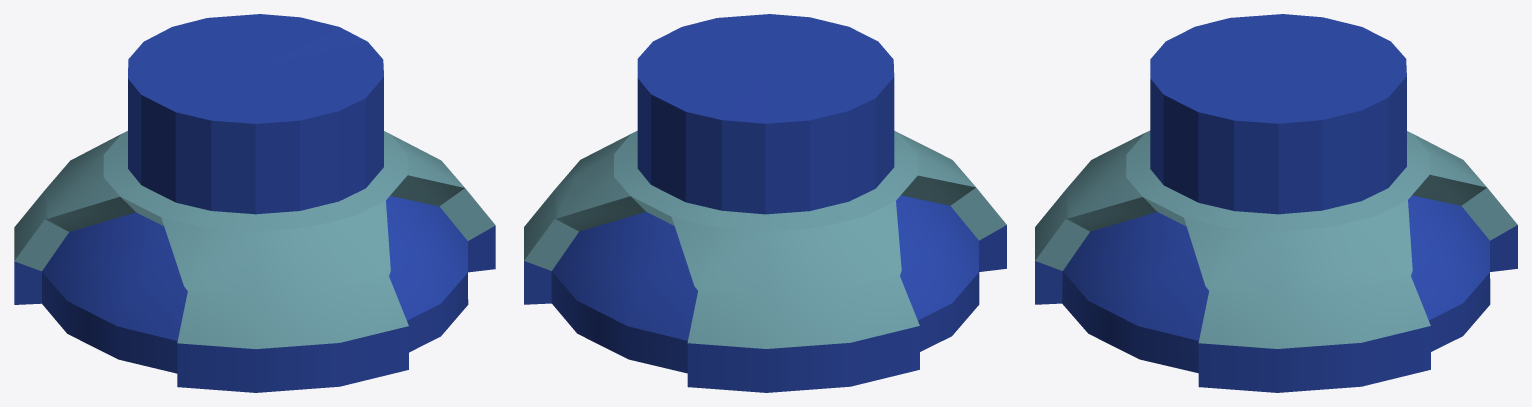
Rendered from 大招地雷3阿渤.FBX.
3 views of the same model, side by side, from view 1: azimuth 30°, elevation 25°; view 2: azimuth 150°, elevation 25°; view 3: azimuth 270°, elevation 25° (orthographic).
Parts seen in each view (by area): view 1: 对象002, Cylinder003; view 2: 对象002, Cylinder003; view 3: 对象002, Cylinder003.
Part boxes in pixels (x1,y1,x2,y2): 对象002: (14,14,495,392); Cylinder003: (14,131,495,349); 对象002: (524,14,1006,392); Cylinder003: (524,130,1006,348); 对象002: (1035,14,1517,392); Cylinder003: (1035,130,1517,348).
Bounding box in the file's own units: 86.49 × 44.44 × 87.99.
